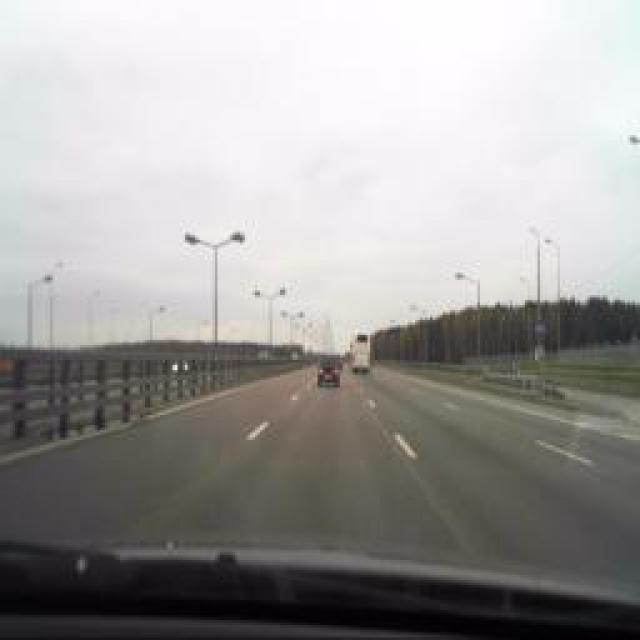sign: (535, 316, 547, 339)
